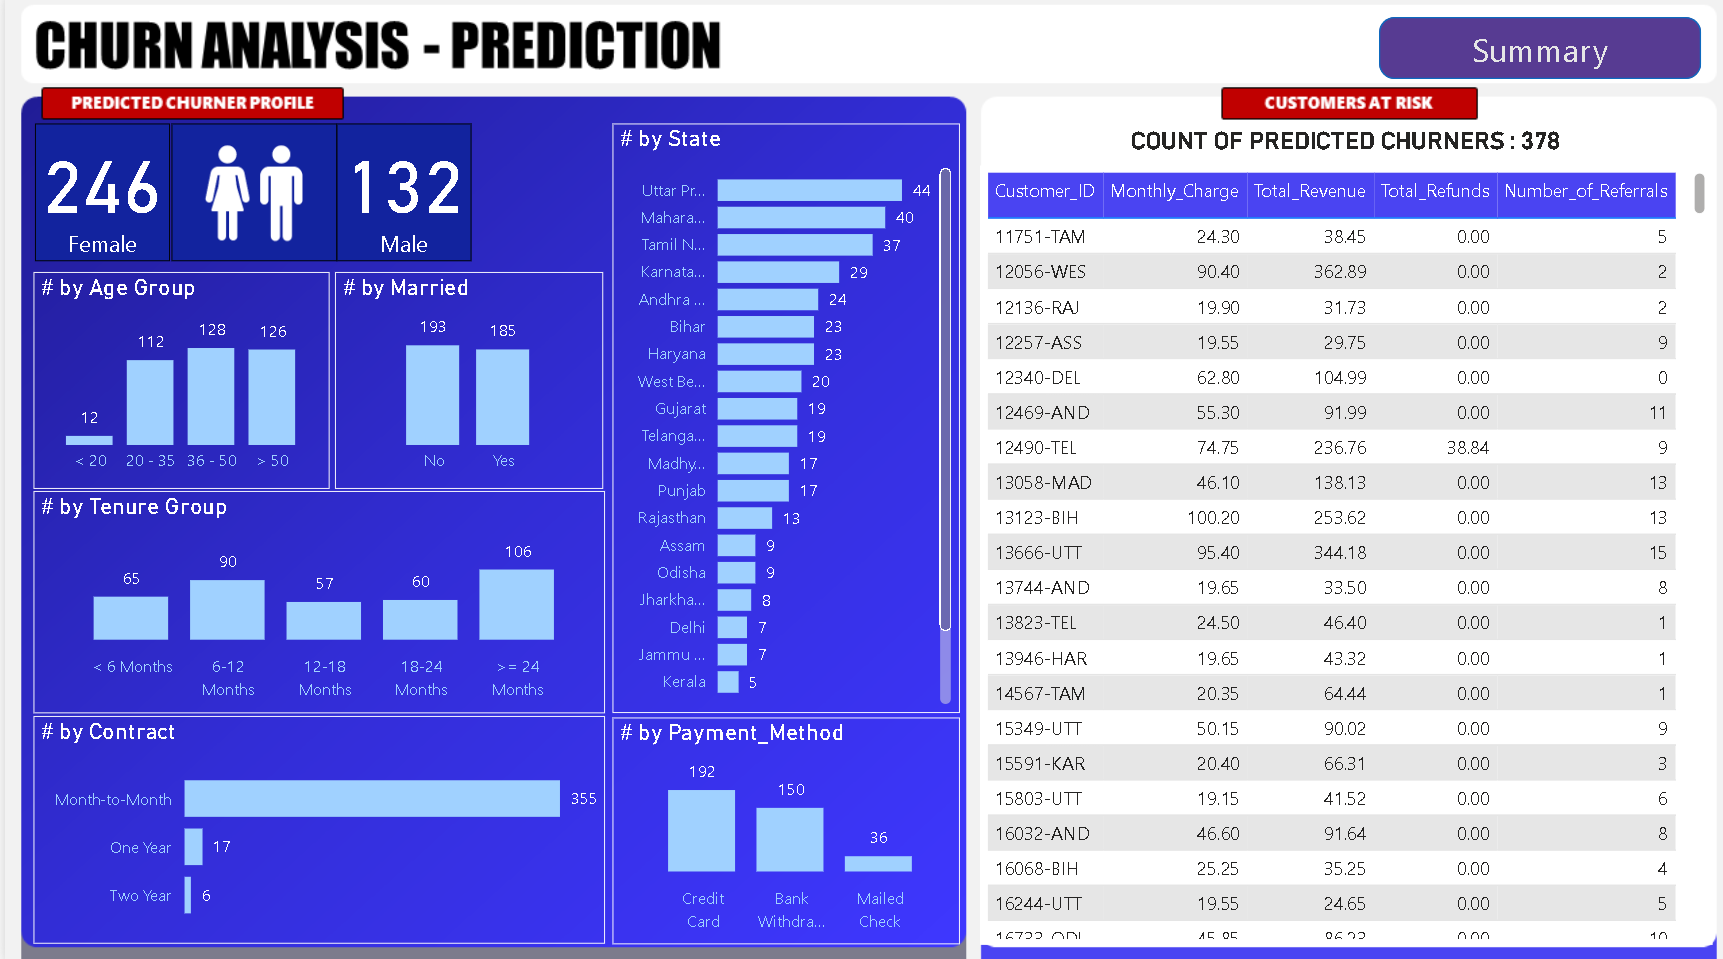

Layout of this report page (visuals, bound fields, positions):
{"tool":"powerbi","page":{"name":"prediction","canvas":[1280,720],"ordinal":2},"visuals":[{"type":"tableEx","fields":{"Values":["predictions.Customer_ID","predictions.Monthly_Charge","predictions.Total_Revenue","predictions.Total_Refunds","predictions.Number_of_Referrals"]},"box":[722.1,127.2,542.4,577.4],"z":0},{"type":"card","fields":{"Values":["tbi_measure.Title Predicted Churners"]},"box":[793.7,92.3,399.2,35],"z":1000},{"type":"card","fields":{"Values":["tbi_measure.Count Predicted Churner"]},"box":[22.7,96.4,100.2,102],"z":2000},{"type":"card","fields":{"Values":["tbi_measure.Count Predicted Churner"]},"box":[245.7,96.4,100.2,102],"z":3000},{"type":"clusteredColumnChart","fields":{"Category":["map_AgeGrp.Age Group"],"Y":["CountNonNull(predictions.Customer_ID)"]},"box":[20.7,206.8,219.5,160.7],"z":4000},{"type":"clusteredColumnChart","fields":{"Category":["predictions.Married"],"Y":["CountNonNull(predictions.Customer_ID)"]},"box":[245,206.8,198.8,160.7],"z":5000},{"type":"clusteredColumnChart","fields":{"Category":["map_TenureGrp.Tenure Group"],"Y":["CountNonNull(predictions.Customer_ID)"]},"box":[20.8,368.5,423.3,164.4],"z":6000},{"type":"clusteredColumnChart","fields":{"Category":["predictions.Payment_Method"],"Y":["CountNonNull(predictions.Customer_ID)"]},"box":[449.8,536.7,257,168.2],"z":7000},{"type":"clusteredBarChart","fields":{"Category":["predictions.Contract"],"Y":["CountNonNull(predictions.Customer_ID)"]},"box":[20.7,536,423.1,168.6],"z":8000},{"type":"clusteredBarChart","fields":{"Y":["CountNonNull(predictions.Customer_ID)"],"Category":["predictions.State"]},"box":[449.8,96.4,257,436.5],"z":9000},{"type":"image","box":[122.8,96.4,122.8,102],"z":10000},{"type":"shape","title":"Prediction","box":[1018,17.5,238.6,46.1],"z":11000}]}

Visuals, with their boxes in screenshot pixels (x1, y1, x2, y2), scaled from the page's 1280x720 canvas onto the 1723x959 screenshot:
tableEx - predictions.Customer_ID x predictions.Monthly_Charge: pyautogui.locateOnScreen(972, 169, 1702, 938)
card - tbi_measure.Title Predicted Churners: pyautogui.locateOnScreen(1068, 123, 1606, 170)
card - tbi_measure.Count Predicted Churner: pyautogui.locateOnScreen(31, 128, 165, 264)
card - tbi_measure.Count Predicted Churner: pyautogui.locateOnScreen(331, 128, 466, 264)
clusteredColumnChart - map_AgeGrp.Age Group x CountNonNull(predictions.Customer_ID): pyautogui.locateOnScreen(28, 275, 323, 489)
clusteredColumnChart - predictions.Married x CountNonNull(predictions.Customer_ID): pyautogui.locateOnScreen(330, 275, 597, 489)
clusteredColumnChart - map_TenureGrp.Tenure Group x CountNonNull(predictions.Customer_ID): pyautogui.locateOnScreen(28, 491, 598, 710)
clusteredColumnChart - predictions.Payment_Method x CountNonNull(predictions.Customer_ID): pyautogui.locateOnScreen(605, 715, 951, 939)
clusteredBarChart - predictions.Contract x CountNonNull(predictions.Customer_ID): pyautogui.locateOnScreen(28, 714, 597, 938)
clusteredBarChart - CountNonNull(predictions.Customer_ID) x predictions.State: pyautogui.locateOnScreen(605, 128, 951, 710)
image: pyautogui.locateOnScreen(165, 128, 331, 264)
"Prediction" shape: pyautogui.locateOnScreen(1370, 23, 1692, 85)
